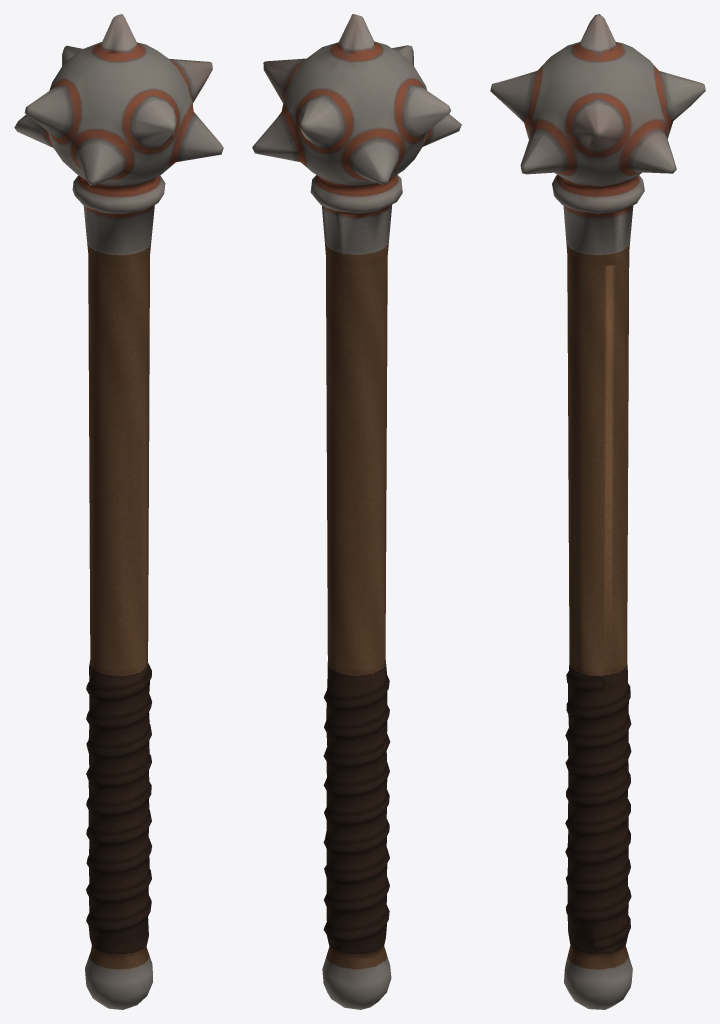
Rendered from weapon_mace.glb.
The picture shows the model from 3 angles, left to right: view 1: azimuth 30°, elevation 25°; view 2: azimuth 150°, elevation 25°; view 3: azimuth 270°, elevation 25°; orthographic projection.
Visible parts, largest first — view 1: weapon_mace; view 2: weapon_mace; view 3: weapon_mace.
Boxes of the visible parts, x1,y1,x2,y2 form: weapon_mace: [14, 14, 223, 1009]; weapon_mace: [252, 14, 461, 1009]; weapon_mace: [490, 14, 705, 1009].
Size of the model in its own units: 0.1576 by 0.8005 by 0.1577.
Materials: 1 (1 with a texture image).
